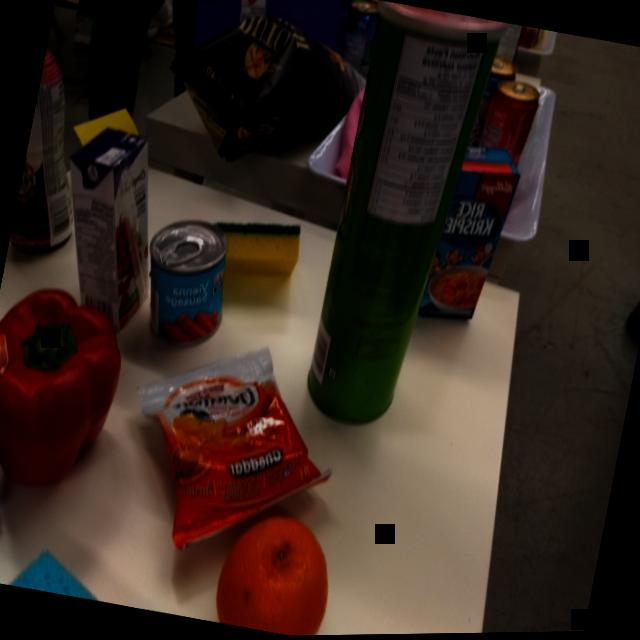cereal: (415, 138, 527, 333)
chocolate_drink: (7, 46, 104, 264)
coke: (474, 74, 544, 168)
crackers: (114, 344, 341, 540)
grape_juice: (43, 121, 176, 331)
orange: (203, 501, 347, 638)
paprika: (0, 277, 137, 502)
potato_chips: (154, 0, 376, 193)
sausages: (130, 209, 242, 358)
scrubby: (215, 209, 308, 282)
